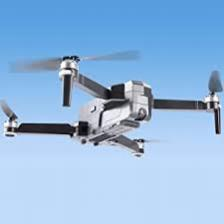drone: (0, 37, 224, 164)
